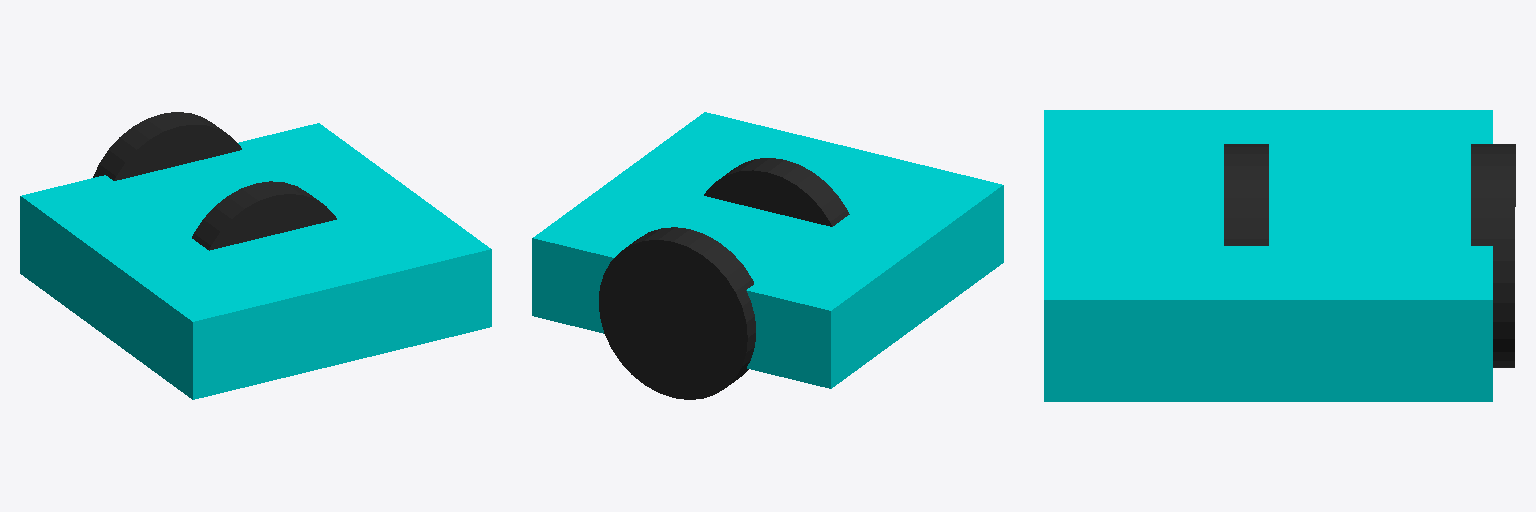
URDF robot description (pi_robot):
<?xml version="0.0" ?>
<robot name="pi_robot">

	<!-- * * * Link Definitions * * * -->

 	<link name="base_link">
		<visual>
		    <origin xyz="0 0 0.2" rpy="0 0 0"/>
			<geometry>
				<box size="0.2 0.2 0.05"/>
			</geometry>
			<material name="Cyan">
	       		<color rgba="0 0.9 0.9 1.0"/>
	     	</material>
		</visual>	

		<collision>
      	<geometry>
        	<cylinder length="0.10938" radius="0.176"/>
      	</geometry>
      	<origin rpy="0 0 0" xyz="0.0 0 0.05949"/>
    	</collision>
		<inertial>
		<mass value="2.4"/>
		<!-- 2.4/2.6 kg for small/big battery pack -->
		<origin xyz="0 0 0"/>
		<inertia ixx="0.0001" ixy="0.0" ixz="0.0" iyy="0.0001" iyz="0.0" izz="0.0001"/>
		</inertial>
	</link>

 	<link name="left_wheel">
		<visual>
		    <origin xyz="0 0.1 0" rpy="1.57 0 0"/>
			<geometry>
				<cylinder radius="0.05" length="0.02"/>
			</geometry>
			<material name="Black">
	       		<color rgba="0.2 0.2 0.2 1.0"/>
	     	</material>
		</visual>	
		<collision>
		<geometry>
			<cylinder length="0.0206" radius="0.0352"/>
		</geometry>
		<origin rpy="0 0 0" xyz="0 0 0"/>
		</collision>
			<inertial>
				<mass value="0.1"/>
				<origin xyz="0 0 0"/>
			<inertia ixx="0.01" ixy="0.0" ixz="0.0" iyy="0.01" iyz="0.0" izz="0.01"/>
		</inertial>
     <contact>
      <lateral_friction value="1.0"/>
      <rolling_friction value="0.0"/>
      <stiffness value="30000"/>
      <damping value="1000"/>
    </contact>
	</link>


 	<link name="right_wheel">
		<visual>
		    <origin xyz="0 -0.01 0" rpy="1.57 0 0"/>
			<geometry>
				<cylinder radius="0.05" length="0.02"/>
			</geometry>
			<material name="Black1">
	       		<color rgba="0.2 0.2 0.2 1.0"/>
	     	</material>
		</visual>	
    <collision>
      <geometry>
        <cylinder length="0.0206" radius="0.0350"/>
      </geometry>
      <origin rpy="0 0 0" xyz="0 0 0"/>
    </collision>
   <inertial>
      <mass value="0.1"/>
      <origin xyz="0 0 0"/>
      <inertia ixx="0.01" ixy="0.0" ixz="0.0" iyy="0.01" iyz="0.0" izz="0.01"/>
    </inertial>
   	<contact>
      <lateral_friction value="1.0"/>
      <rolling_friction value="0.0"/>
      <stiffness value="30000"/>
      <damping value="10000"/>
    </contact>
	</link>


    <joint name="torso_joint_left" type="revolute">
    	<parent link="base_link"/>
    	<child link="left_wheel"/>
    	<origin xyz="0 0 0.2" rpy="0 0 0"/>
    	<axis xyz="0 1 0"/>
    	<limit lower="-3.1416" upper="3.1416" effort="10" velocity="3"/>
  	</joint>


    <joint name="torso_joint_right" type="revolute">
    	<parent link="base_link"/>
    	<child link="right_wheel"/>
    	<origin xyz="0 0 0.2" rpy="0 0 0"/>
    	<axis xyz="0 1 0"/>
    	<limit lower="-3.1416" upper="3.1416" effort="10" velocity="3"/>
  	</joint>
</robot>

--- Facts derived from the render (not from the file) ---
The picture shows the robot from 3 angles, left to right: view 1: azimuth 30°, elevation 25°; view 2: azimuth 150°, elevation 25°; view 3: azimuth 270°, elevation 25°; orthographic projection.
Robot: pi_robot — 3 links, 2 joints (2 revolute); root link base_link; default pose: every joint at zero.
Visible links, largest first — view 1: base_link, left_wheel, right_wheel; view 2: base_link, left_wheel, right_wheel; view 3: base_link, left_wheel, right_wheel.
Boxes of the visible links, bbox=[...] form: base_link: bbox=[20, 123, 491, 399]; left_wheel: bbox=[93, 112, 241, 180]; right_wheel: bbox=[192, 181, 336, 250]; base_link: bbox=[532, 112, 1003, 388]; left_wheel: bbox=[599, 227, 755, 399]; right_wheel: bbox=[704, 158, 849, 226]; base_link: bbox=[1044, 110, 1492, 401]; left_wheel: bbox=[1471, 144, 1515, 367]; right_wheel: bbox=[1224, 144, 1268, 245].
Bounding box of the posed robot: 0.2 × 0.21 × 0.1 m (x, y, z).
Geometry: primitives only (box / cylinder / sphere), no mesh files.